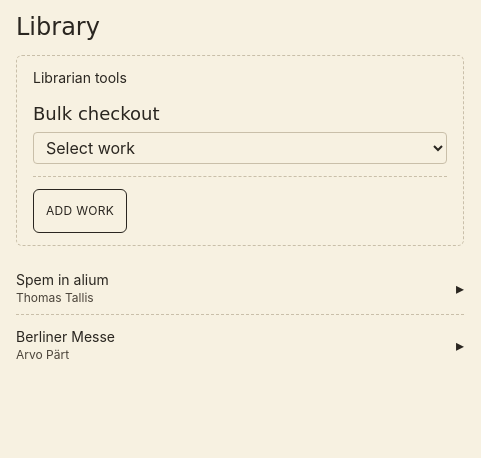
Scenario: #271 — create-edition control placement on /library (integration) › a ZERO-EDITIONS work offers it TOO — the empty message and the button render together (the empty branch is mutually exclusive with the list branch, so an in-bra
The width and height of the screenshot is (481, 458).
Expected: the list item with test id "library-work-work-1" is shown, [16, 262, 464, 315]
Expected: the list item with test id "library-work-work-2" is shown, [16, 319, 464, 371]
Click the button "Berliner Messe Arvo Pärt ▸". click: {"x": 65, "y": 336}
box: [16, 327, 464, 363]
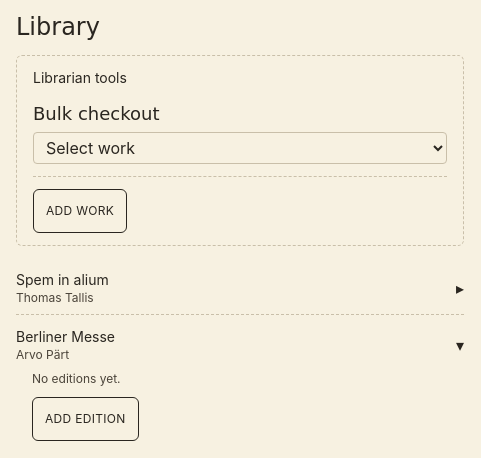
Expected: the element with id "library-editions-work-2" is shown, [32, 371, 139, 441]
Expected: the element with id "library-editions-work-2" shows "No editions yet.", [32, 371, 121, 386]
Expected: the button with test id "create-edition-button-work-2" is shown, [32, 397, 139, 441]
